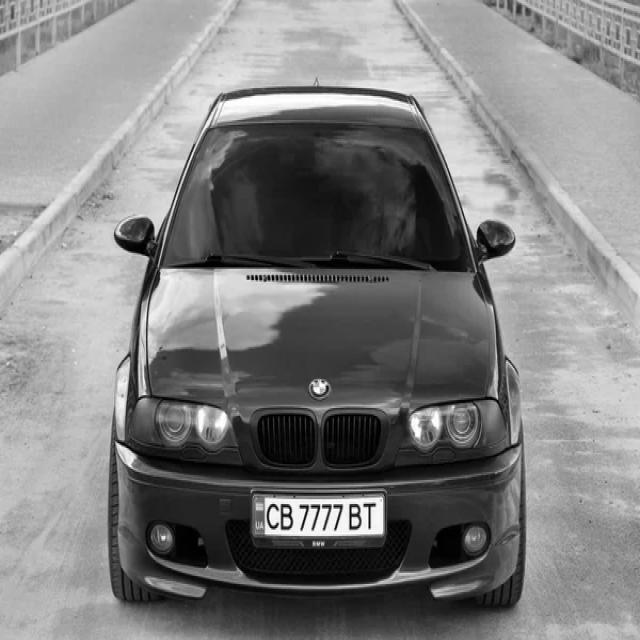Car: (108, 86, 527, 608)
